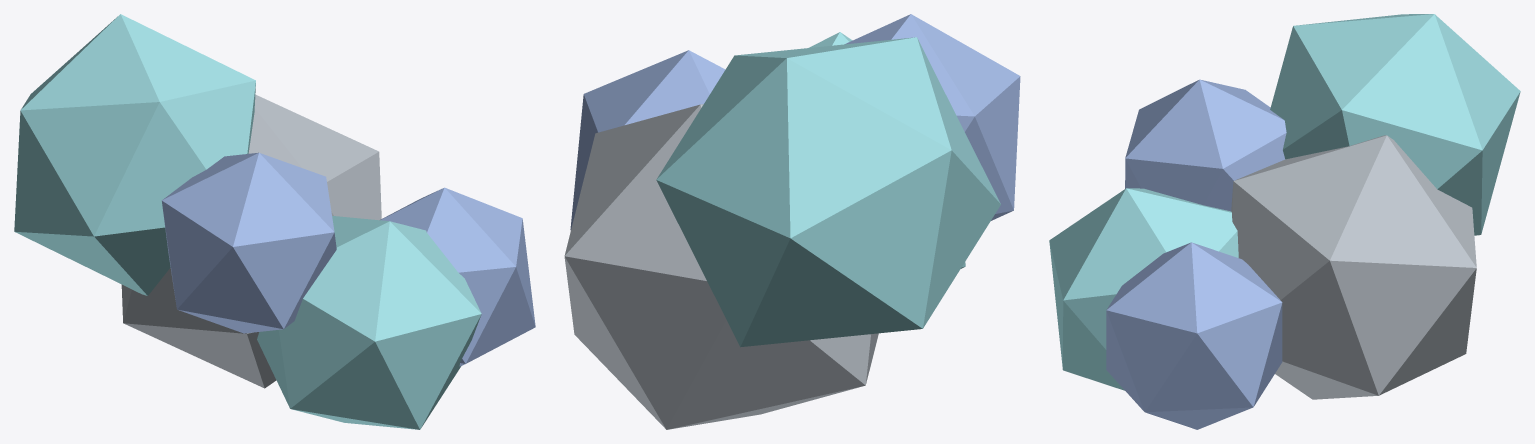
Rendered from cloud3.fbx.
3 renders of one model, left to right at view 1: azimuth 30°, elevation 25°; view 2: azimuth 150°, elevation 25°; view 3: azimuth 270°, elevation 25°, orthographic. The views are drawn at different scales.
Parts seen in each view (by area): view 1: Icosphere.009, Icosphere.005, Icosphere.006, Icosphere.008, Icosphere.007; view 2: Icosphere.009, Icosphere.008, Icosphere.006, Icosphere.007; view 3: Icosphere.008, Icosphere.009, Icosphere.007, Icosphere.005, Icosphere.006.
Part boxes in pixels (bbox=[...]): Icosphere.009: bbox=[14, 14, 255, 295]; Icosphere.005: bbox=[257, 216, 481, 429]; Icosphere.006: bbox=[161, 152, 336, 333]; Icosphere.008: bbox=[121, 94, 381, 388]; Icosphere.007: bbox=[380, 187, 535, 366]; Icosphere.009: bbox=[656, 37, 1000, 347]; Icosphere.008: bbox=[564, 104, 878, 429]; Icosphere.006: bbox=[845, 14, 1020, 220]; Icosphere.007: bbox=[570, 50, 725, 230]; Icosphere.008: bbox=[1231, 135, 1476, 399]; Icosphere.009: bbox=[1270, 14, 1520, 235]; Icosphere.007: bbox=[1106, 242, 1282, 429]; Icosphere.005: bbox=[1049, 188, 1238, 390]; Icosphere.006: bbox=[1125, 79, 1286, 211].
Bounding box in the file's own units: 366 × 307 × 379.
